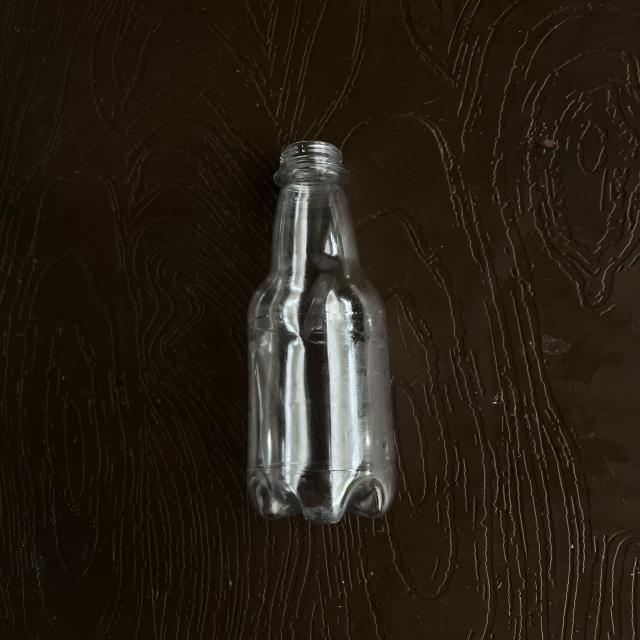PET_ClearBottle: (239, 135, 410, 636)
